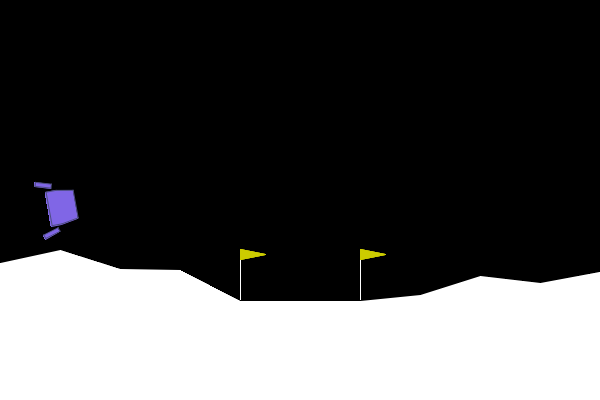lander: (33, 175, 83, 241)
